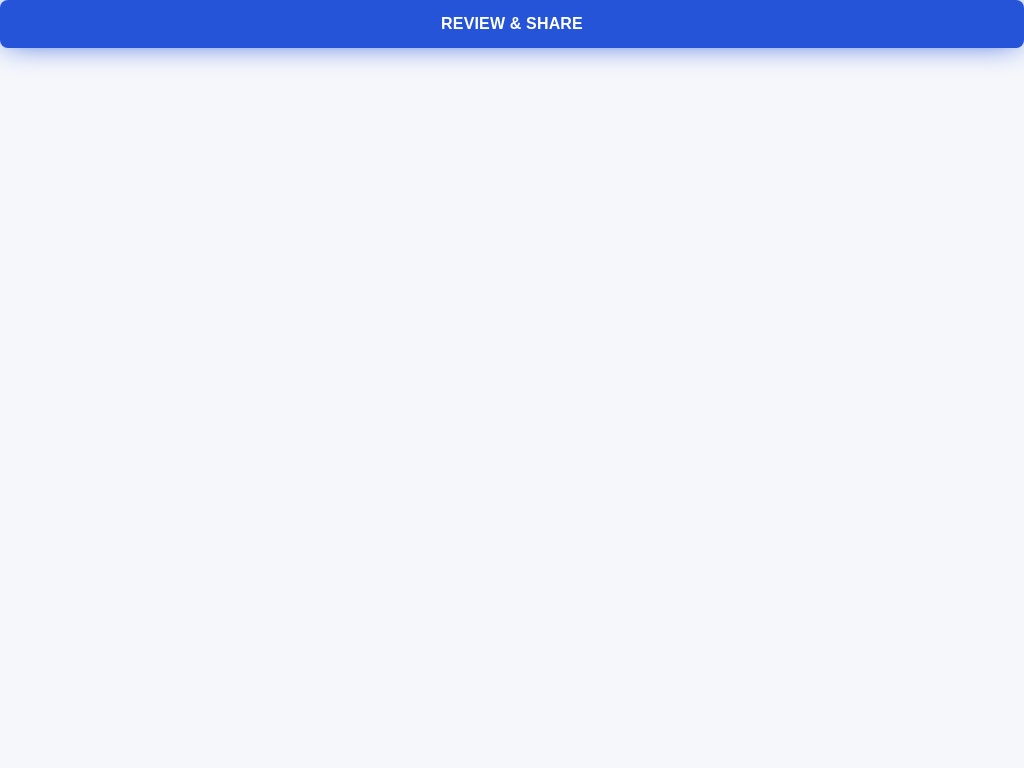
cash recaps › shows the same exact cash consideration when reviewing a proposal
Step 1. Click the button "Review & Share" → (512,24), box [0,0,1023,48]
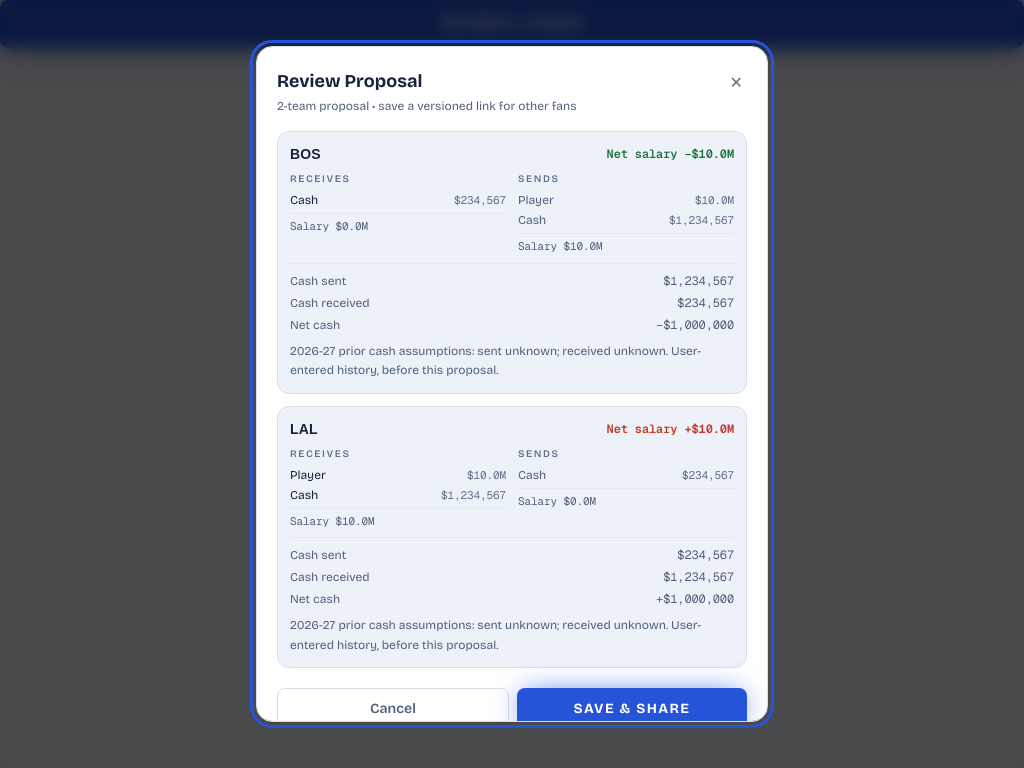
Expected: the text "Net salary −$10.0M" is shown, [606,145,734,163]
Expected: the 2nd text "$1,234,567" is shown, [663,272,734,290]
Expected: the 2nd text "$234,567" is shown, [677,294,734,312]
